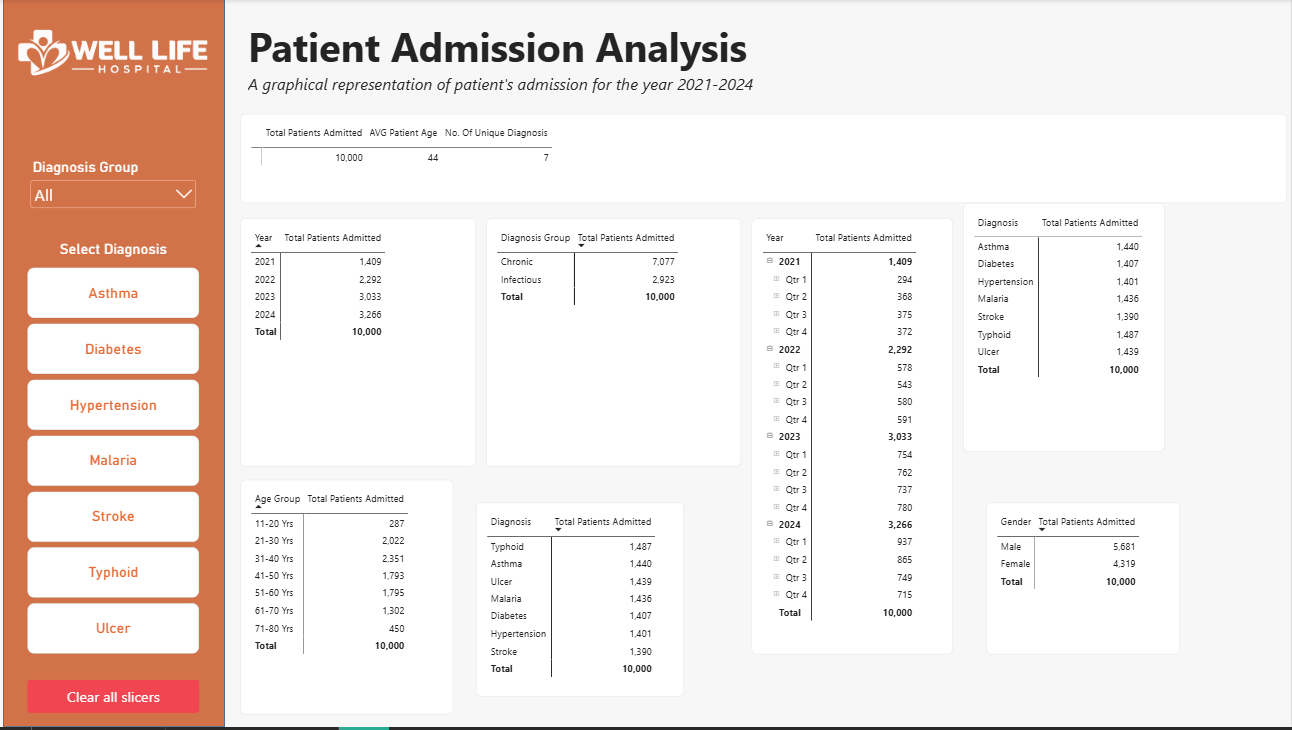

The dashboard page shown, as its layout file describes it:
{"tool":"powerbi","page":{"name":"Pivot Tables","canvas":[1920,1080],"ordinal":0},"visuals":[{"type":"pivotTable","fields":{"Values":["Dax.Total Patients Admitted","Dax.AVG Patient Age","Dax.No. Of Unique Diagnosis"]},"box":[359.4,170.3,1553.2,132.4],"z":0},{"type":"pivotTable","fields":{"Rows":["Admissions Data.Admission_Date.Variation.Date Hierarchy.Year"],"Values":["Dax.Total Patients Admitted"]},"box":[359.4,325.4,350,368.9],"z":1},{"type":"pivotTable","fields":{"Rows":["Admissions Data.Age Group"],"Values":["Dax.Total Patients Admitted"]},"box":[359.4,713.2,315.9,348.1],"z":3},{"type":"pivotTable","fields":{"Rows":["Admissions Data.Gender"],"Values":["Dax.Total Patients Admitted"]},"box":[1466.2,747.3,287.6,225.1],"z":4},{"type":"pivotTable","fields":{"Rows":["Admissions Data.Diagnosis"],"Values":["Dax.Total Patients Admitted"]},"box":[709.4,747.3,308.4,287.6],"z":5},{"type":"pivotTable","fields":{"Rows":["Admissions Data.Diagnosis Group"],"Values":["Dax.Total Patients Admitted"]},"box":[724.6,325.4,378.4,368.9],"z":6},{"type":"pivotTable","fields":{"Rows":["Admissions Data.Admission_Date.Variation.Date Hierarchy.Year","Admissions Data.Admission_Date.Variation.Date Hierarchy.Quarter","Admissions Data.Admission_Date.Variation.Date Hierarchy.Month","Admissions Data.Admission_Date.Variation.Date Hierarchy.Day"],"Values":["Dax.Total Patients Admitted"]},"box":[1118.1,325.4,298.9,647],"z":7},{"type":"shape","box":[7.6,0,329.2,1080.2],"z":8},{"type":"advancedSlicerVisual","title":"Select Diagnosis","fields":{"Values":["Admissions Data.Diagnosis"]},"box":[43.5,357.6,255.4,614.8],"z":9},{"type":"slicer","title":"Select Period","fields":{"Values":["Admissions Data.Admission_Date"]},"box":[1551.3,58.6,361.3,111.6],"z":10},{"type":"slicer","fields":{"Values":["Admissions Data.Diagnosis Group"]},"box":[43.5,236.5,255.4,81.3],"z":11},{"type":"textbox","box":[370.8,30.3,766.2,126.8],"z":12},{"type":"actionButton","box":[43.5,1010.2,255.4,49.2],"z":13},{"type":"image","box":[7.6,15.1,325.4,126.8],"z":14},{"type":"pivotTable","fields":{"Rows":["Admissions Data.Diagnosis"],"Values":["Dax.Total Patients Admitted"]},"box":[1432.1,302.7,298.9,368.9],"z":15}]}

Visuals, with their boxes in screenshot pixels (x1, y1, x2, y2), scaled from the page's 1920x1080 canvas onto the 1292x730 screenshot:
pivotTable - Dax.Total Patients Admitted x Dax.AVG Patient Age: crop(242, 115, 1287, 205)
pivotTable - Admissions Data.Admission_Date.Variation.Date Hierarchy.Year x Dax.Total Patients Admitted: crop(242, 220, 477, 469)
pivotTable - Admissions Data.Age Group x Dax.Total Patients Admitted: crop(242, 482, 454, 717)
pivotTable - Admissions Data.Gender x Dax.Total Patients Admitted: crop(987, 505, 1180, 657)
pivotTable - Admissions Data.Diagnosis x Dax.Total Patients Admitted: crop(477, 505, 685, 700)
pivotTable - Admissions Data.Diagnosis Group x Dax.Total Patients Admitted: crop(488, 220, 742, 469)
pivotTable - Admissions Data.Admission_Date.Variation.Date Hierarchy.Year x Admissions Data.Admission_Date.Variation.Date Hierarchy.Quarter: crop(752, 220, 954, 657)
shape: crop(5, 0, 227, 729)
"Select Diagnosis" advancedSlicerVisual: crop(29, 242, 201, 657)
"Select Period" slicer: crop(1044, 40, 1287, 115)
slicer - Admissions Data.Diagnosis Group: crop(29, 160, 201, 215)
textbox: crop(250, 20, 765, 106)
actionButton: crop(29, 683, 201, 716)
image: crop(5, 10, 224, 96)
pivotTable - Admissions Data.Diagnosis x Dax.Total Patients Admitted: crop(964, 205, 1165, 454)
